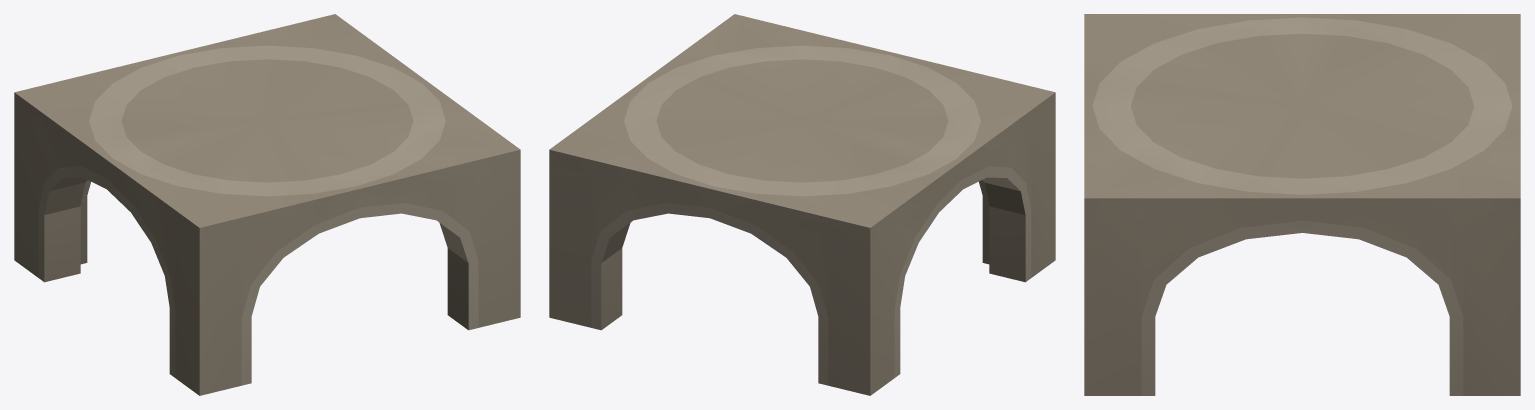
File: dome.arch_4way.stone.glb
3 renders of one model, left to right at view 1: azimuth 30°, elevation 25°; view 2: azimuth 150°, elevation 25°; view 3: azimuth 270°, elevation 25°, orthographic. The views are drawn at different scales.
Parts seen in each view (by area): view 1: dome_arch_4way_stone; view 2: dome_arch_4way_stone; view 3: dome_arch_4way_stone.
Part boxes in pixels (bbox=[...]): dome_arch_4way_stone: bbox=[14, 14, 520, 395]; dome_arch_4way_stone: bbox=[549, 14, 1055, 395]; dome_arch_4way_stone: bbox=[1084, 14, 1520, 395].
Size of what is drawn, in the model's own units: 8 by 4 by 8.
